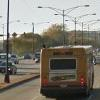Bus: (34, 37, 93, 100)
